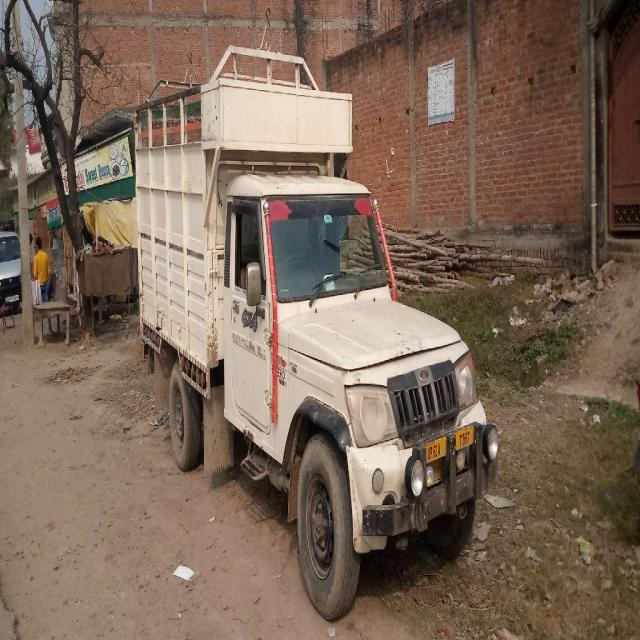light_vehicle: (134, 140, 496, 528)
